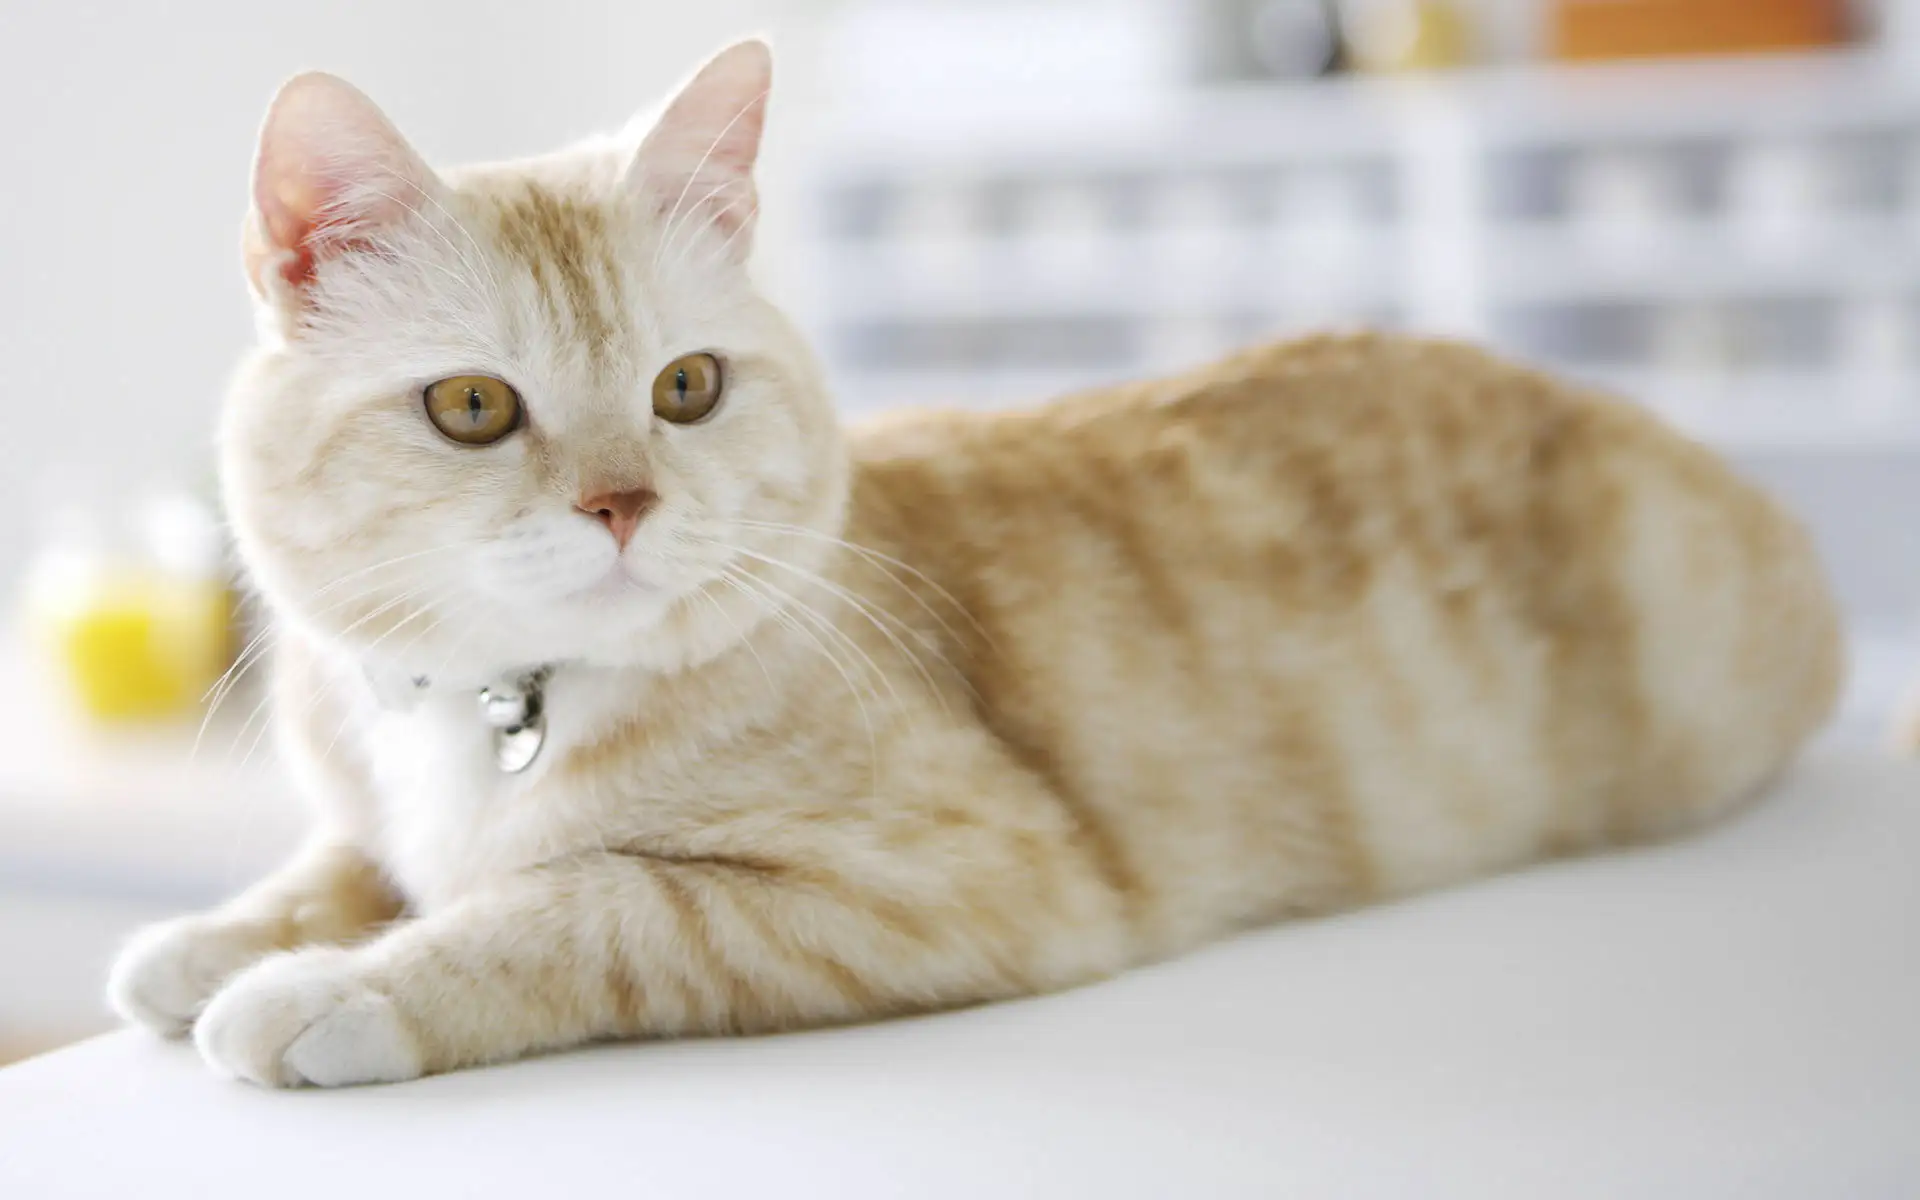cat: (100, 32, 1856, 1095)
